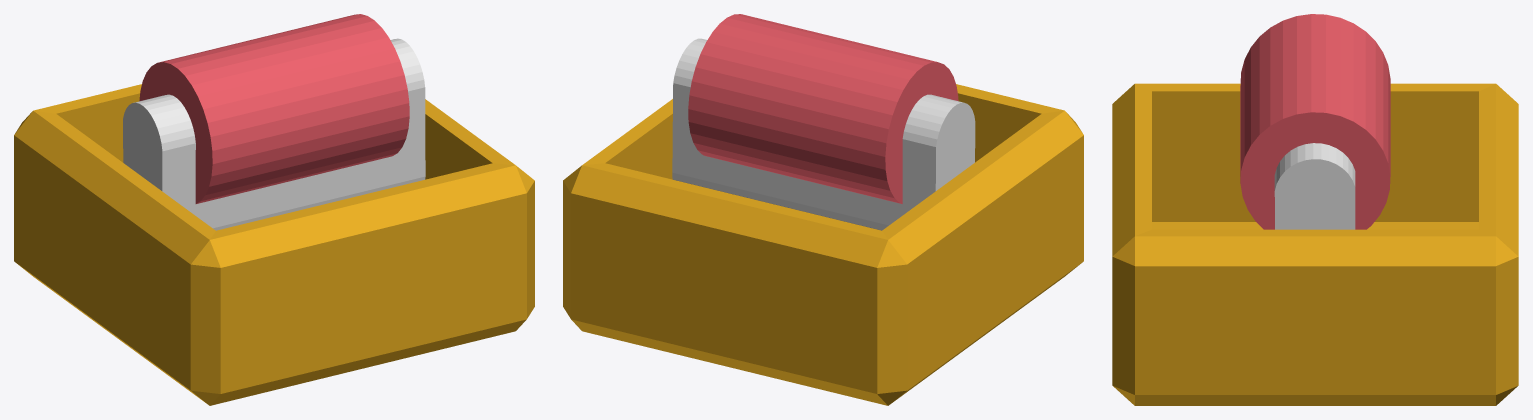
Rendered from Gear_2.fbx.
The picture shows the model from 3 angles, left to right: view 1: azimuth 30°, elevation 25°; view 2: azimuth 150°, elevation 25°; view 3: azimuth 270°, elevation 25°; orthographic projection. The views are drawn at different scales.
Visible parts, largest first — view 1: Cube; view 2: Cube; view 3: Cube.
Boxes of the visible parts, x1,y1,x2,y2 form: Cube: (14,14,534,405); Cube: (563,14,1083,405); Cube: (1112,14,1518,405).
Size of the model in its own units: 200 by 145 by 200.
